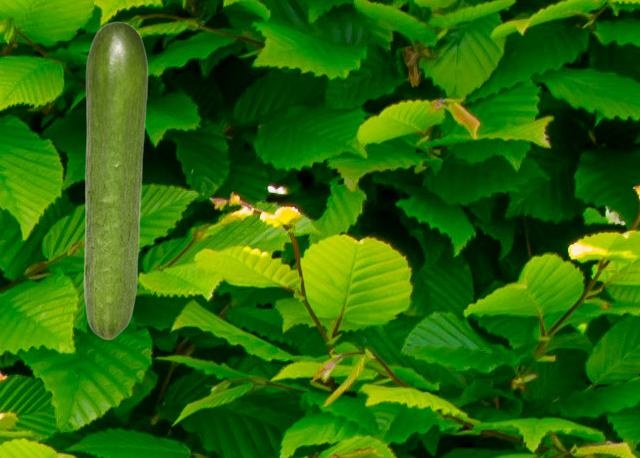cucumber: (83, 21, 147, 339)
